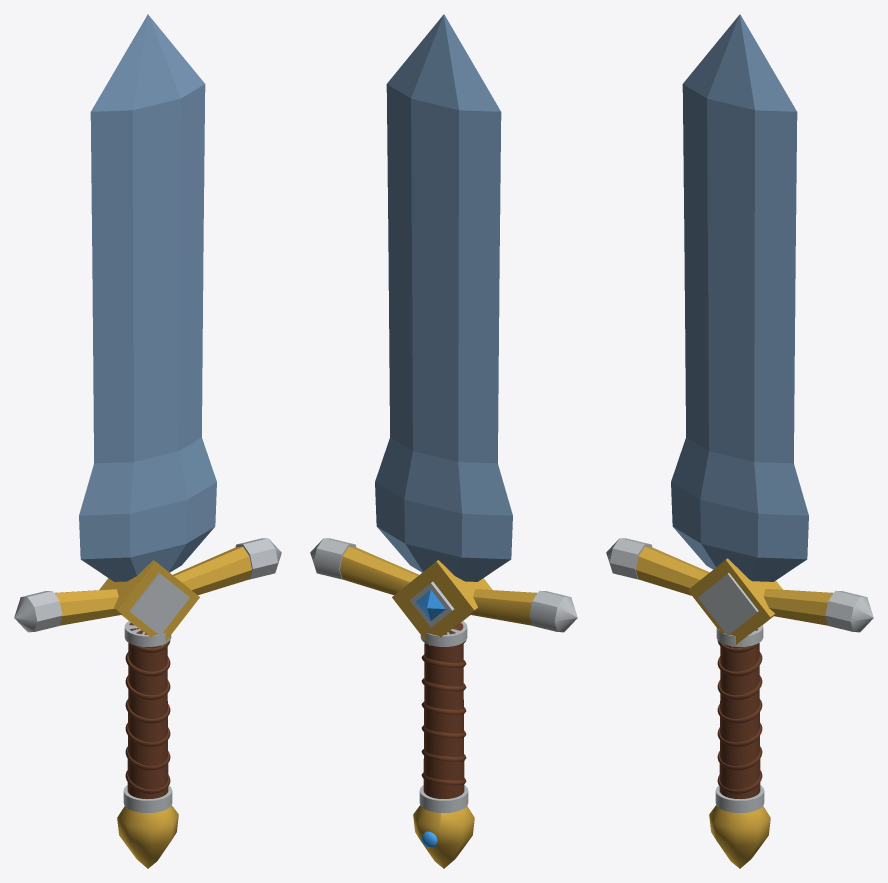
Rendered from Sword_Level_1.obj.
The picture shows the model from 3 angles, left to right: view 1: azimuth 30°, elevation 25°; view 2: azimuth 150°, elevation 25°; view 3: azimuth 330°, elevation 25°; orthographic projection.
Visible parts, largest first — view 1: Sword_Level_1; view 2: Sword_Level_1; view 3: Sword_Level_1.
Boxes of the visible parts, bbox=[...] form: Sword_Level_1: bbox=[14, 14, 281, 868]; Sword_Level_1: bbox=[310, 14, 577, 868]; Sword_Level_1: bbox=[606, 14, 873, 868].
Bounding box in the file's own units: 0.3934 × 1.2 × 0.08.
Materials: 1 (1 with a texture image).
